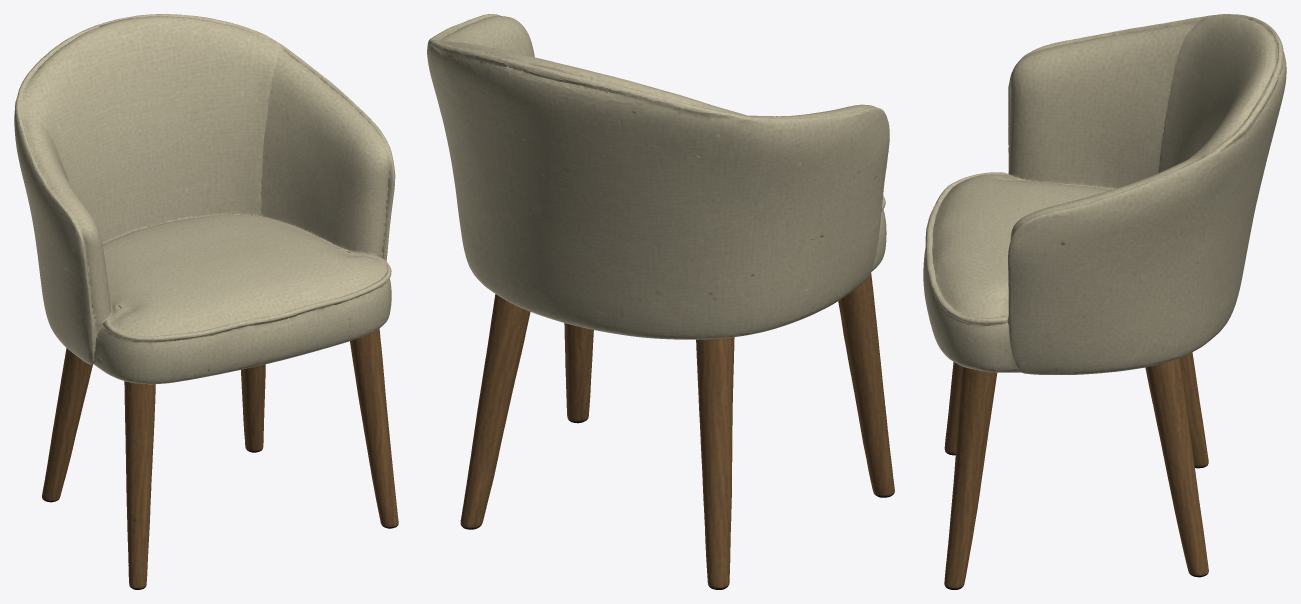
File: upholstered-dining-chair.glb
3 views of the same model, side by side, from view 1: azimuth 30°, elevation 25°; view 2: azimuth 150°, elevation 25°; view 3: azimuth 270°, elevation 25° (orthographic). The views are drawn at different scales.
Parts seen in each view (by area): view 1: world; view 2: world; view 3: world.
Boxes of the visible parts, box(x1,y1,x2,y2) form: world: box(14, 14, 398, 589); world: box(427, 14, 894, 589); world: box(923, 14, 1286, 589).
Bounding box in the file's own units: 0.6151 × 0.78 × 0.547.
Materials: 1 (1 with a texture image).
